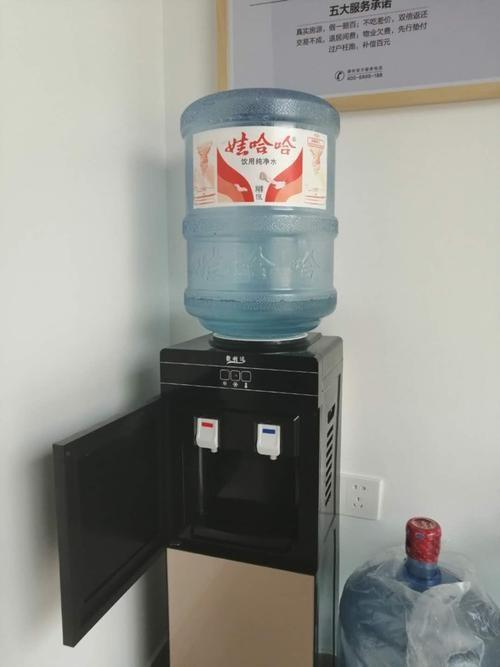Dispenser: (158, 87, 343, 546)
